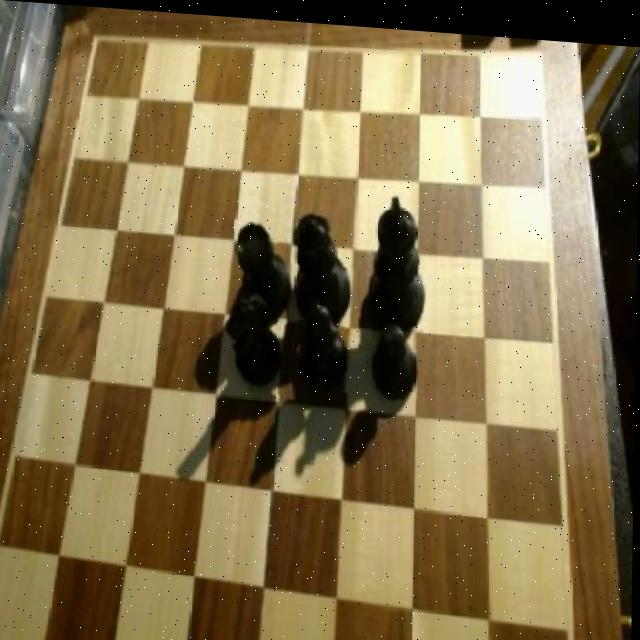bishop: (298, 287, 362, 387)
black-bishop: (369, 191, 431, 322)
black-king: (230, 286, 290, 391)
black-knight: (374, 308, 427, 395)
black-pawn: (292, 202, 358, 318)
black-queen: (235, 214, 292, 320)
